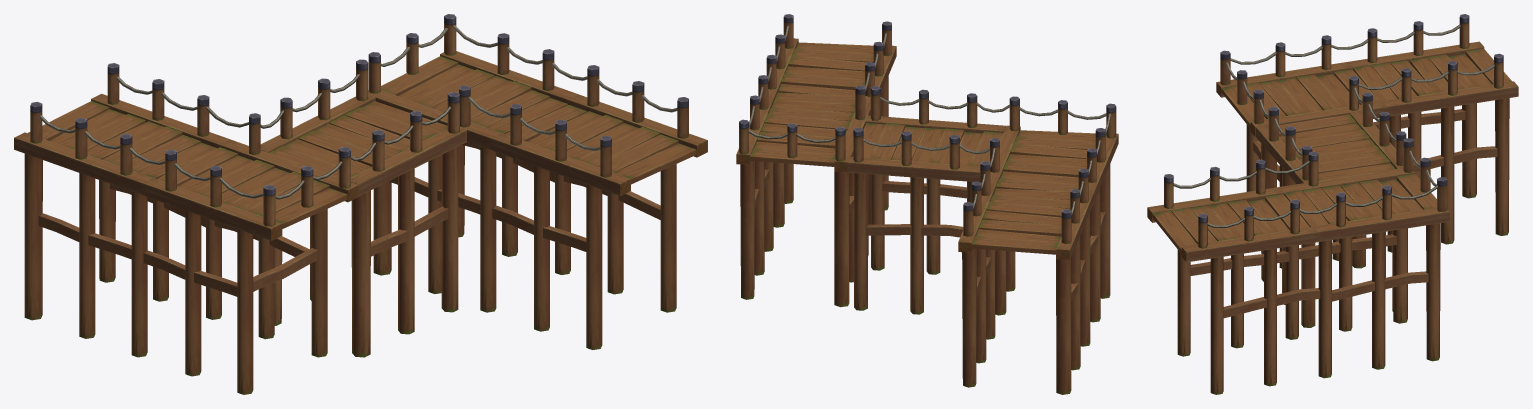
The model's file is scene_lawennushandao_bridge01.FBX.
3 views of the same model, side by side, from view 1: azimuth 30°, elevation 25°; view 2: azimuth 150°, elevation 25°; view 3: azimuth 270°, elevation 25° (orthographic). The views are drawn at different scales.
Parts seen in each view (by area): view 1: scene_lawennushandao_bridge01; view 2: scene_lawennushandao_bridge01; view 3: scene_lawennushandao_bridge01.
Boxes of the visible parts, x1=… form: scene_lawennushandao_bridge01: x1=14, y1=14, x2=707, y2=394; scene_lawennushandao_bridge01: x1=736, y1=14, x2=1118, y2=394; scene_lawennushandao_bridge01: x1=1147, y1=14, x2=1518, y2=394.
Size of the model in its own units: 1173 by 464 by 873.
